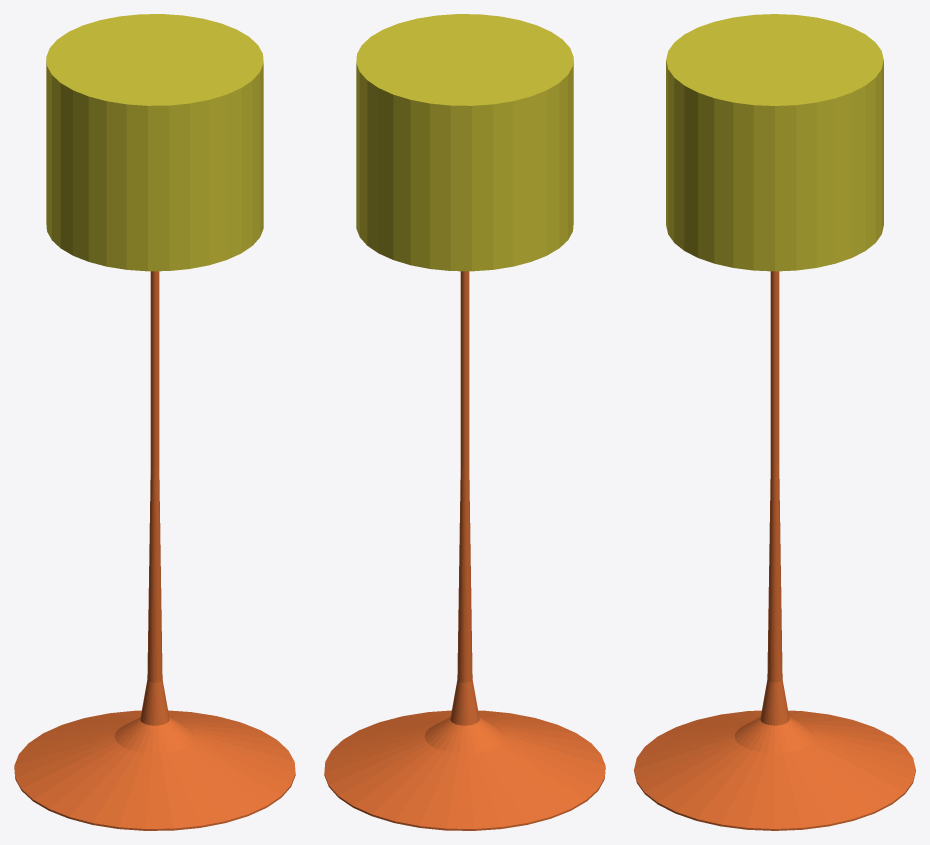
Rendered from lamp1.fbx.
The picture shows the model from 3 angles, left to right: view 1: azimuth 30°, elevation 25°; view 2: azimuth 150°, elevation 25°; view 3: azimuth 270°, elevation 25°; orthographic projection.
Visible parts, largest first — view 1: Cylinder; view 2: Cylinder; view 3: Cylinder.
Boxes of the visible parts, x1=… form: Cylinder: x1=14, y1=14, x2=295, y2=830; Cylinder: x1=324, y1=14, x2=605, y2=830; Cylinder: x1=634, y1=14, x2=915, y2=830.
Bounding box in the file's own units: 259 × 721 × 259.
